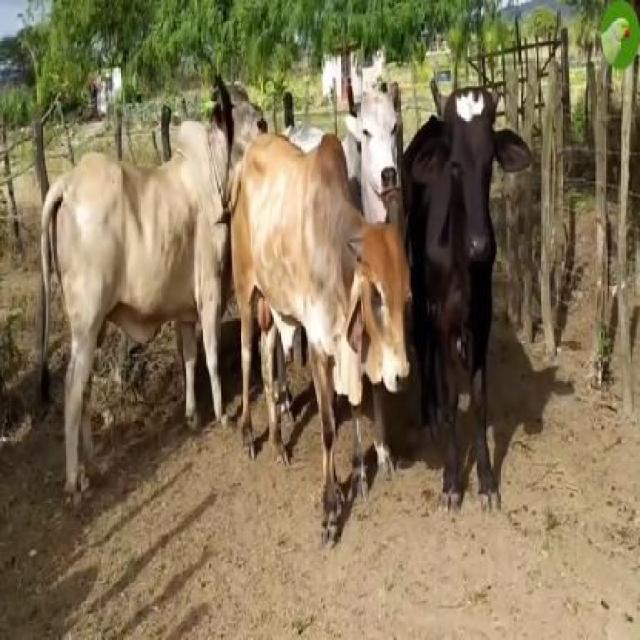Cow: (229, 138, 411, 554), (404, 77, 530, 514), (345, 92, 403, 223)
